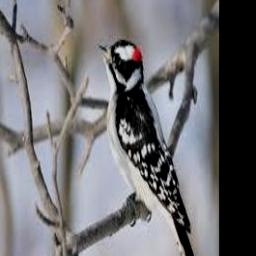Woodpecker: (96, 40, 200, 256)
